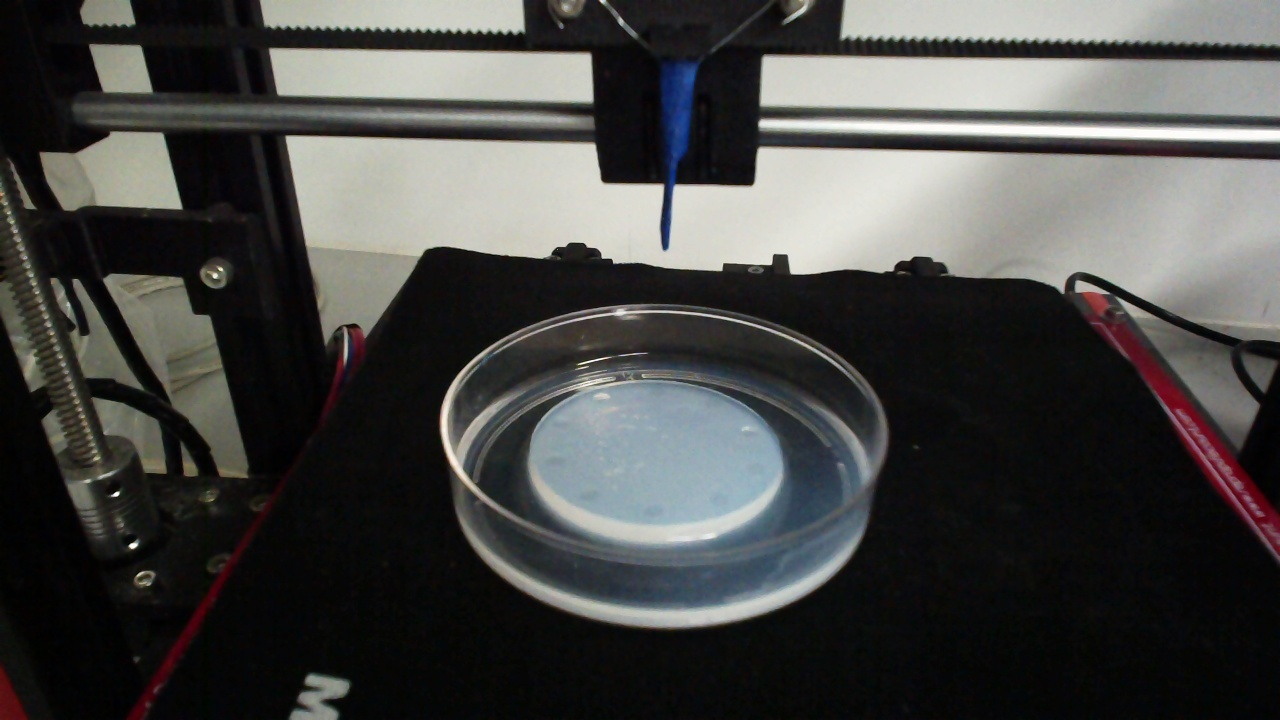groove: (642, 503, 665, 519), (552, 415, 574, 430), (706, 493, 728, 508), (744, 461, 764, 477), (741, 425, 763, 439), (590, 392, 611, 406), (545, 452, 566, 466), (648, 386, 669, 400), (703, 394, 722, 409), (579, 488, 599, 502)
needle: (659, 64, 698, 251)
